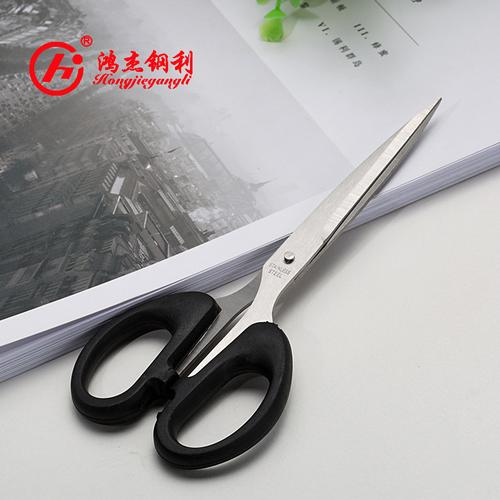scissor: (70, 98, 443, 469)
